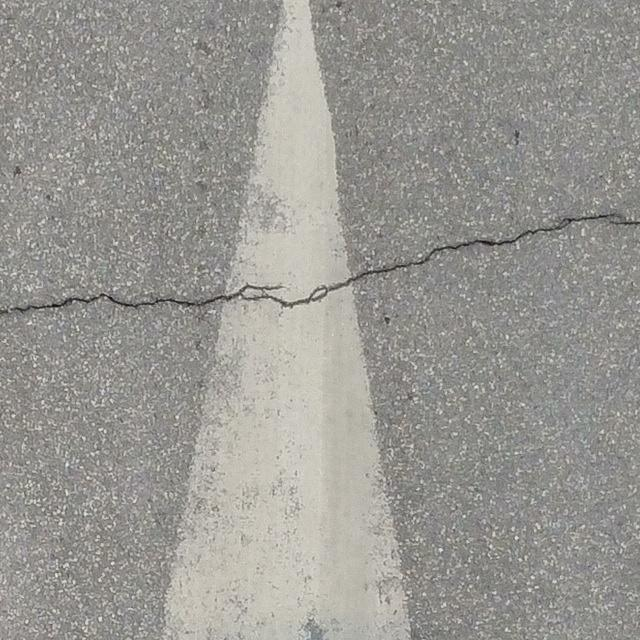TransverseCrack: (1, 210, 640, 319)
